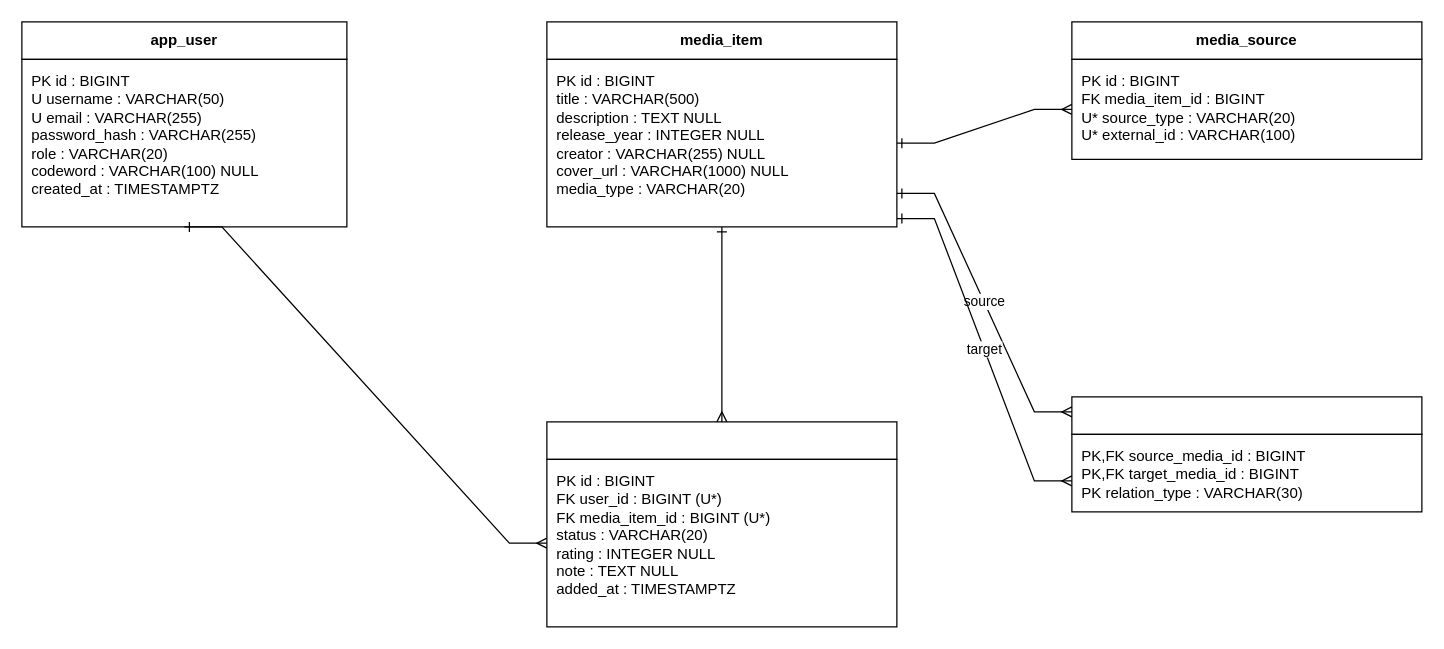
Image size: 1444x649. Some labels were removed from this diagram. The shapes that lost their labels are listed below. From the top down, each one's centre as x and y in pixels, then its label:
At (x=1246, y=415): "media_item_relation".
At (x=721, y=440): "user_entry".
